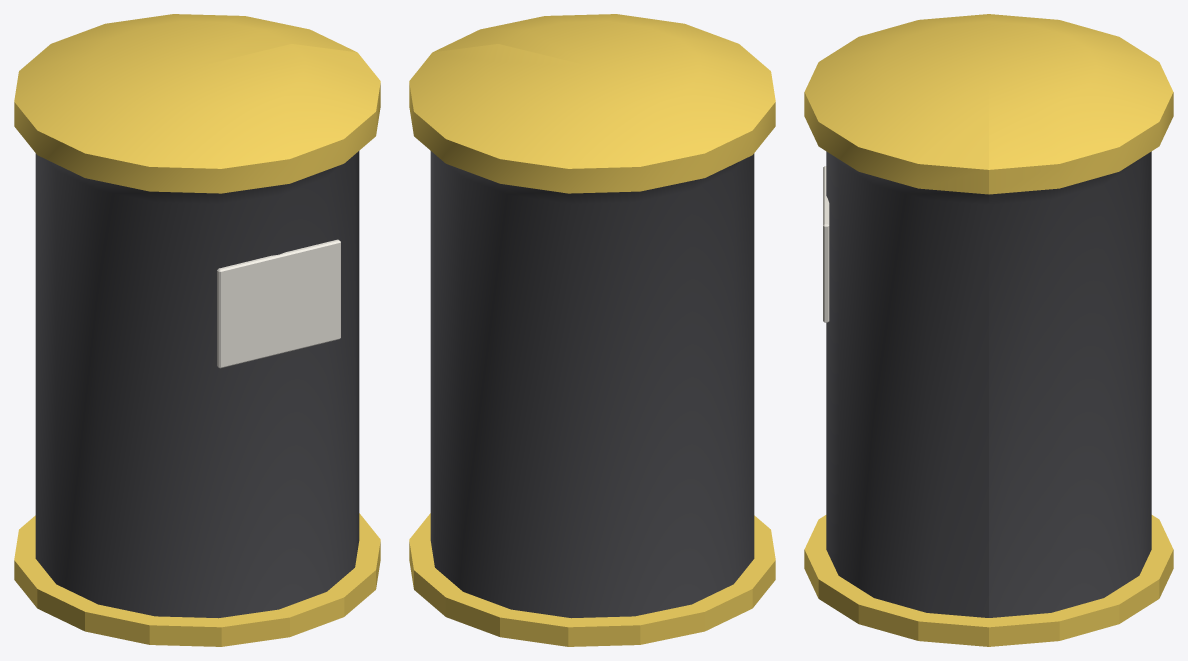
Rendered from live-music-venue-and-festival-stage-litter-bin-d65ec1dd.glb.
3 views of the same model, side by side, from view 1: azimuth 30°, elevation 25°; view 2: azimuth 150°, elevation 25°; view 3: azimuth 270°, elevation 25° (orthographic).
Visible parts, largest first — view 1: litter-bin; view 2: litter-bin; view 3: litter-bin.
Part boxes in pixels (x1,y1,x2,y2): litter-bin: (14, 14, 380, 646); litter-bin: (409, 14, 775, 646); litter-bin: (804, 14, 1173, 646).
Bounding box in the file's own units: 0.68 × 1.02 × 0.68.
